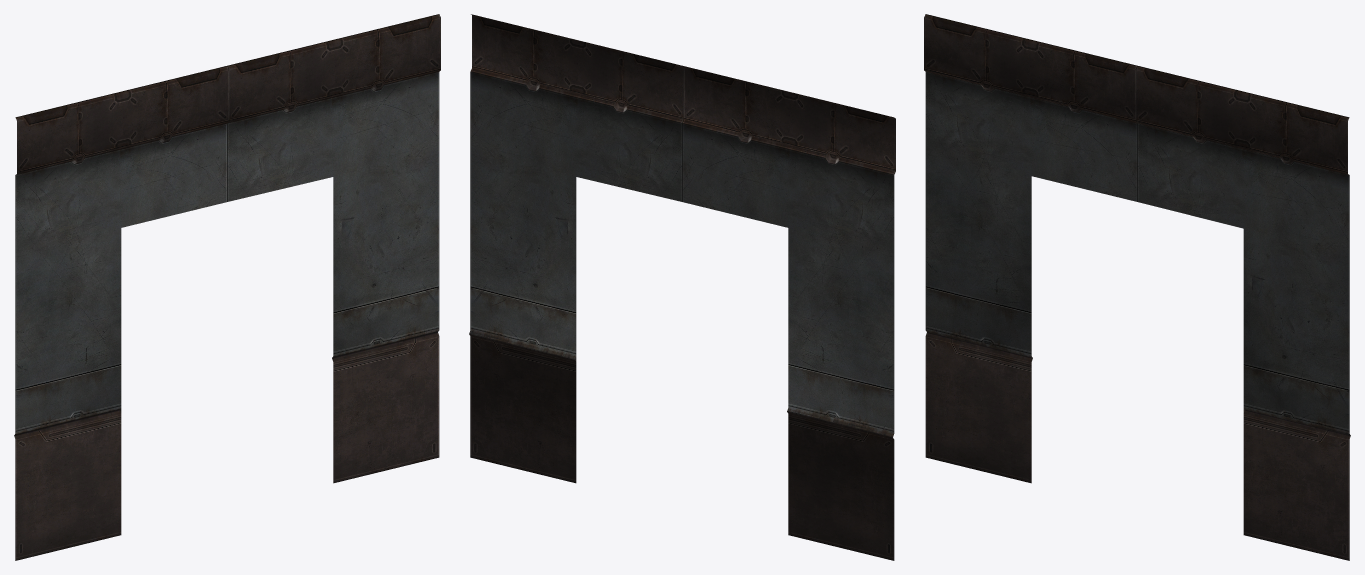
The model's file is datasite_flat_doorway_brown.dae.
The picture shows the model from 3 angles, left to right: view 1: azimuth 30°, elevation 25°; view 2: azimuth 150°, elevation 25°; view 3: azimuth 330°, elevation 25°; orthographic projection.
Parts seen in each view (by area): view 1: polySurface129; view 2: polySurface129; view 3: polySurface129.
Boxes of the visible parts, box(x1,y1,x2,y2) form: polySurface129: box(14, 14, 440, 560); polySurface129: box(469, 14, 895, 560); polySurface129: box(924, 14, 1350, 560).
Bounding box in the file's own units: 4 × 4 × 0.0483.
Materials: 1 (1 with a texture image).
